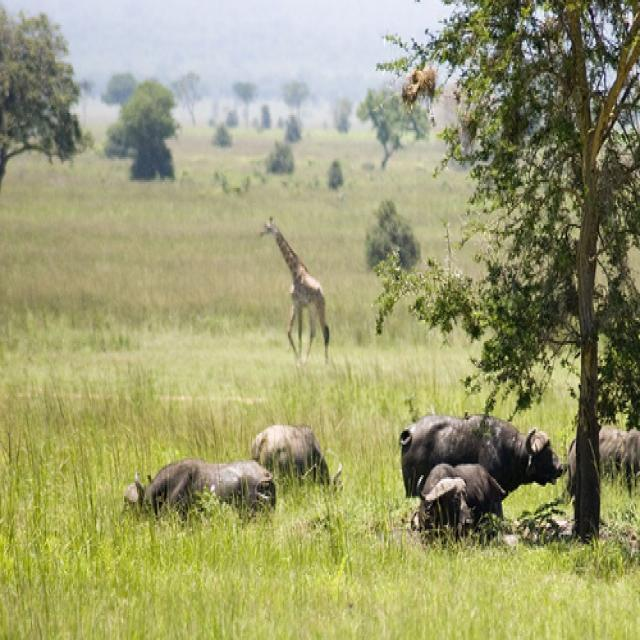cow: (398, 408, 562, 496), (250, 418, 341, 496)
